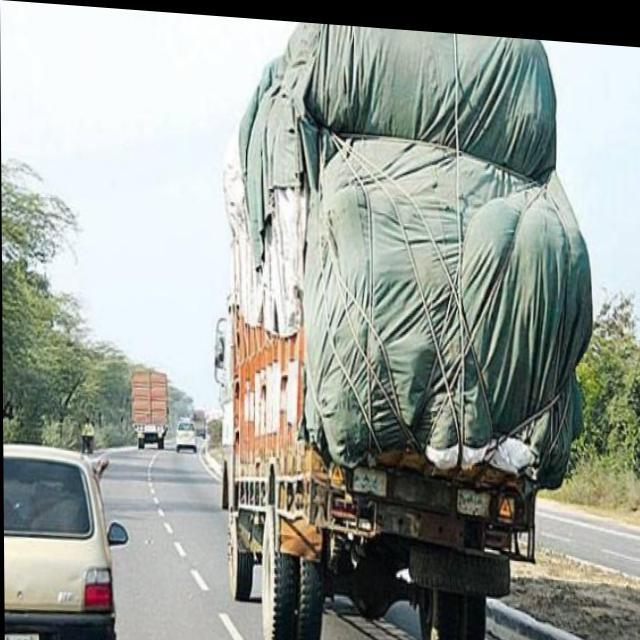covered: (124, 349, 175, 435)
uncovered: (228, 13, 598, 640), (191, 400, 208, 430)
